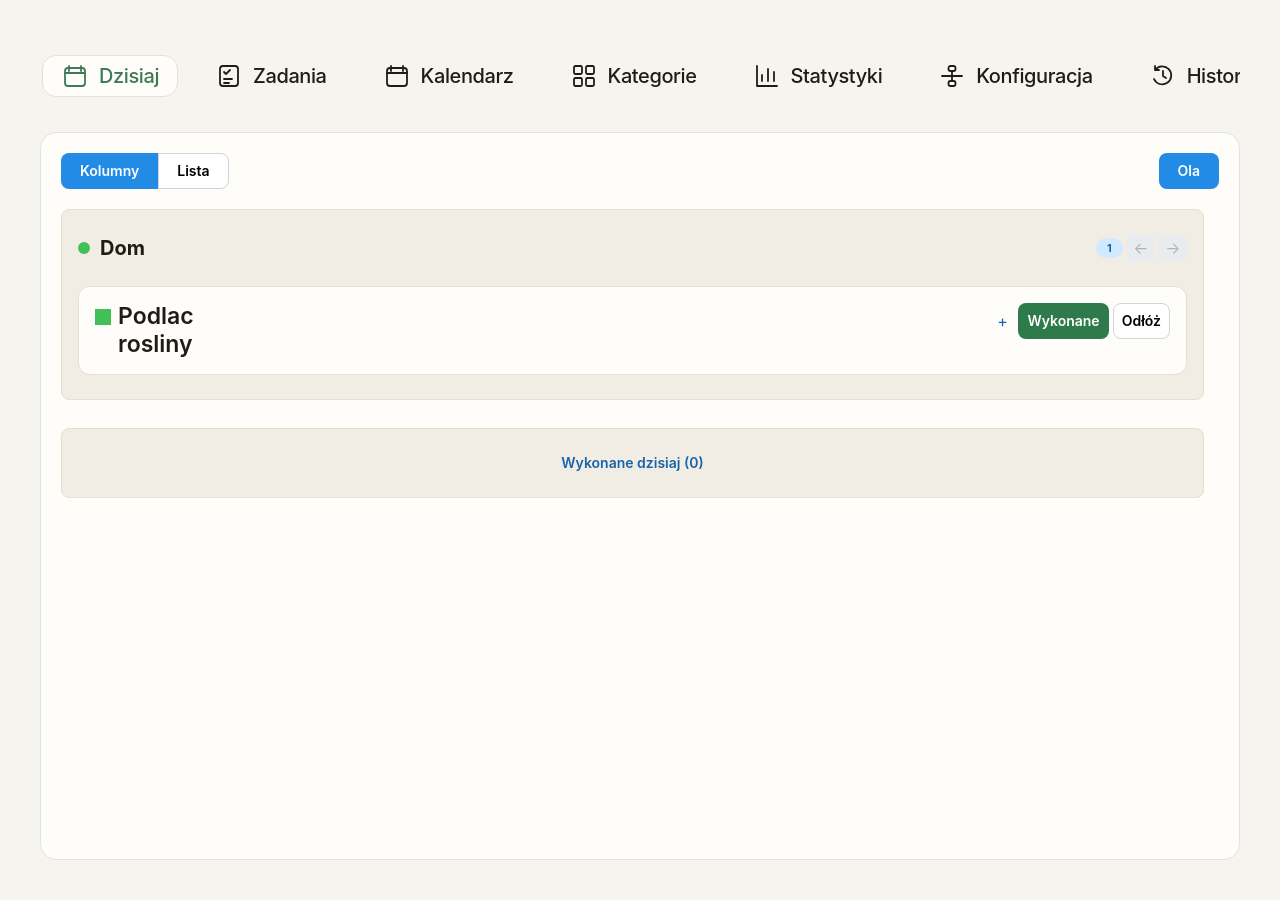
App › postpones a task using the quick menu actions
Click the button with aria-label "Odłóż: Podlac rosliny" at (1141, 321), box [1113,303,1170,339]
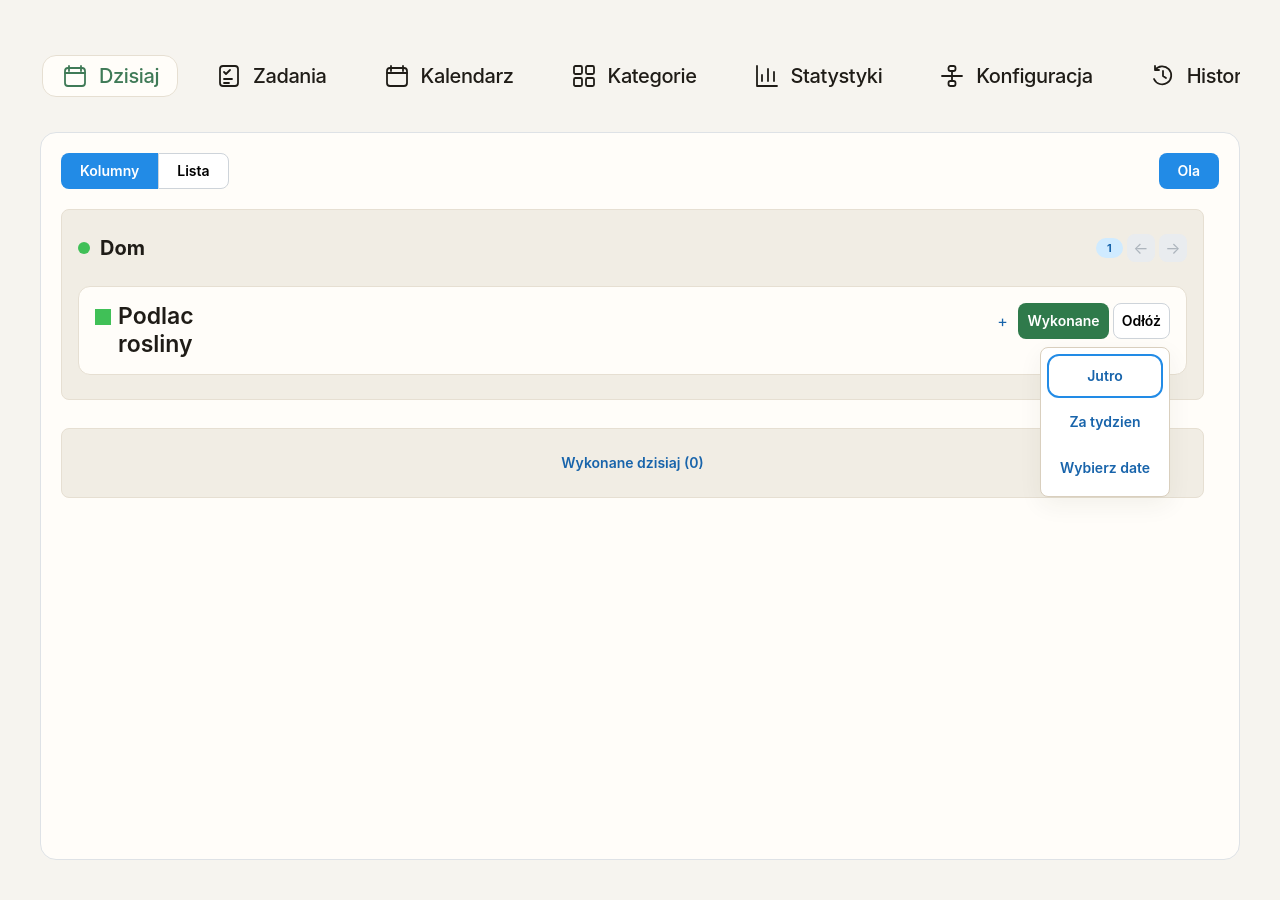
Click the button "Jutro" at (1105, 376), box [1051,358,1159,394]
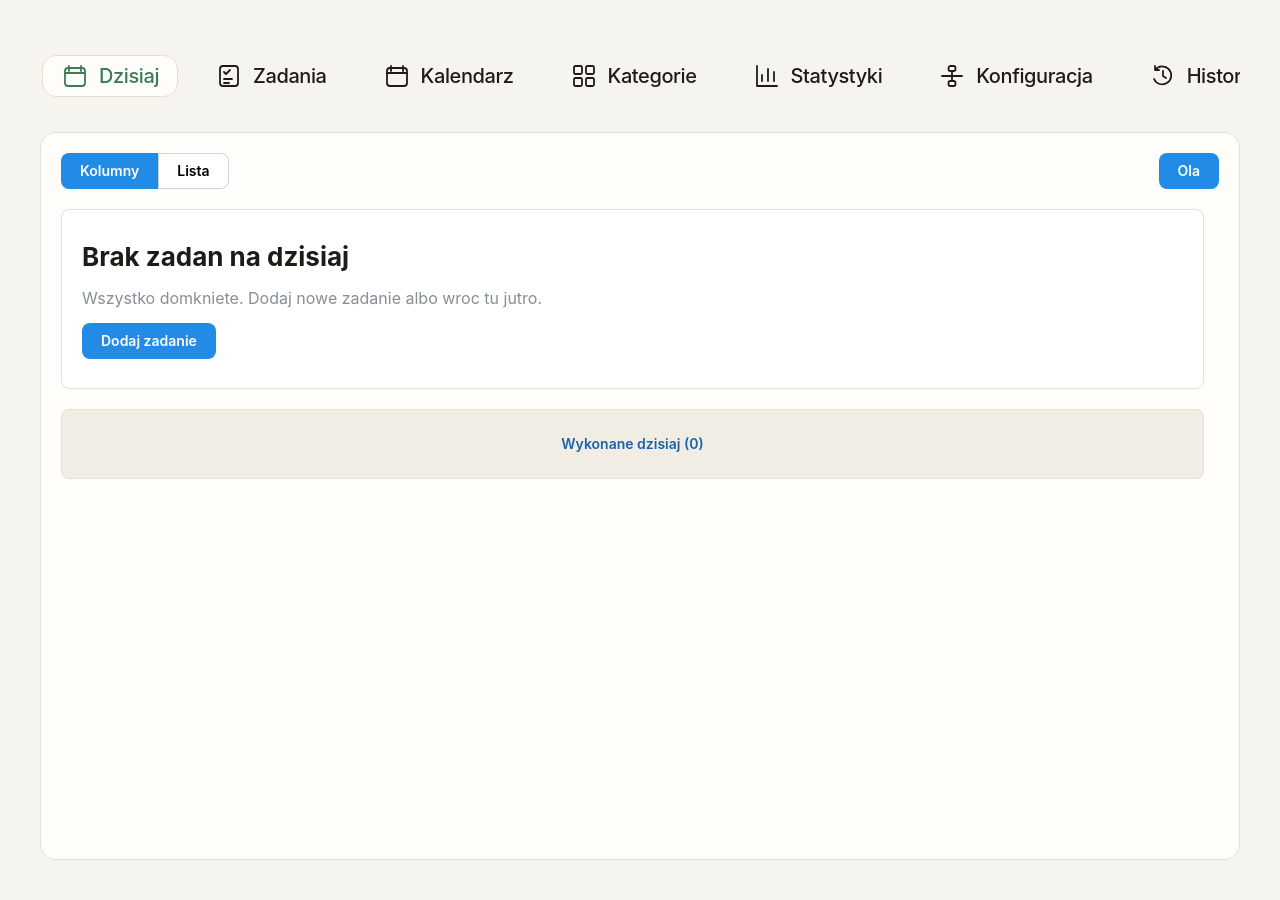
Now the text "Podlac rosliny" is gone
